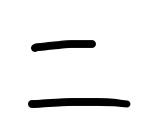eqv: (26, 40, 131, 109)
